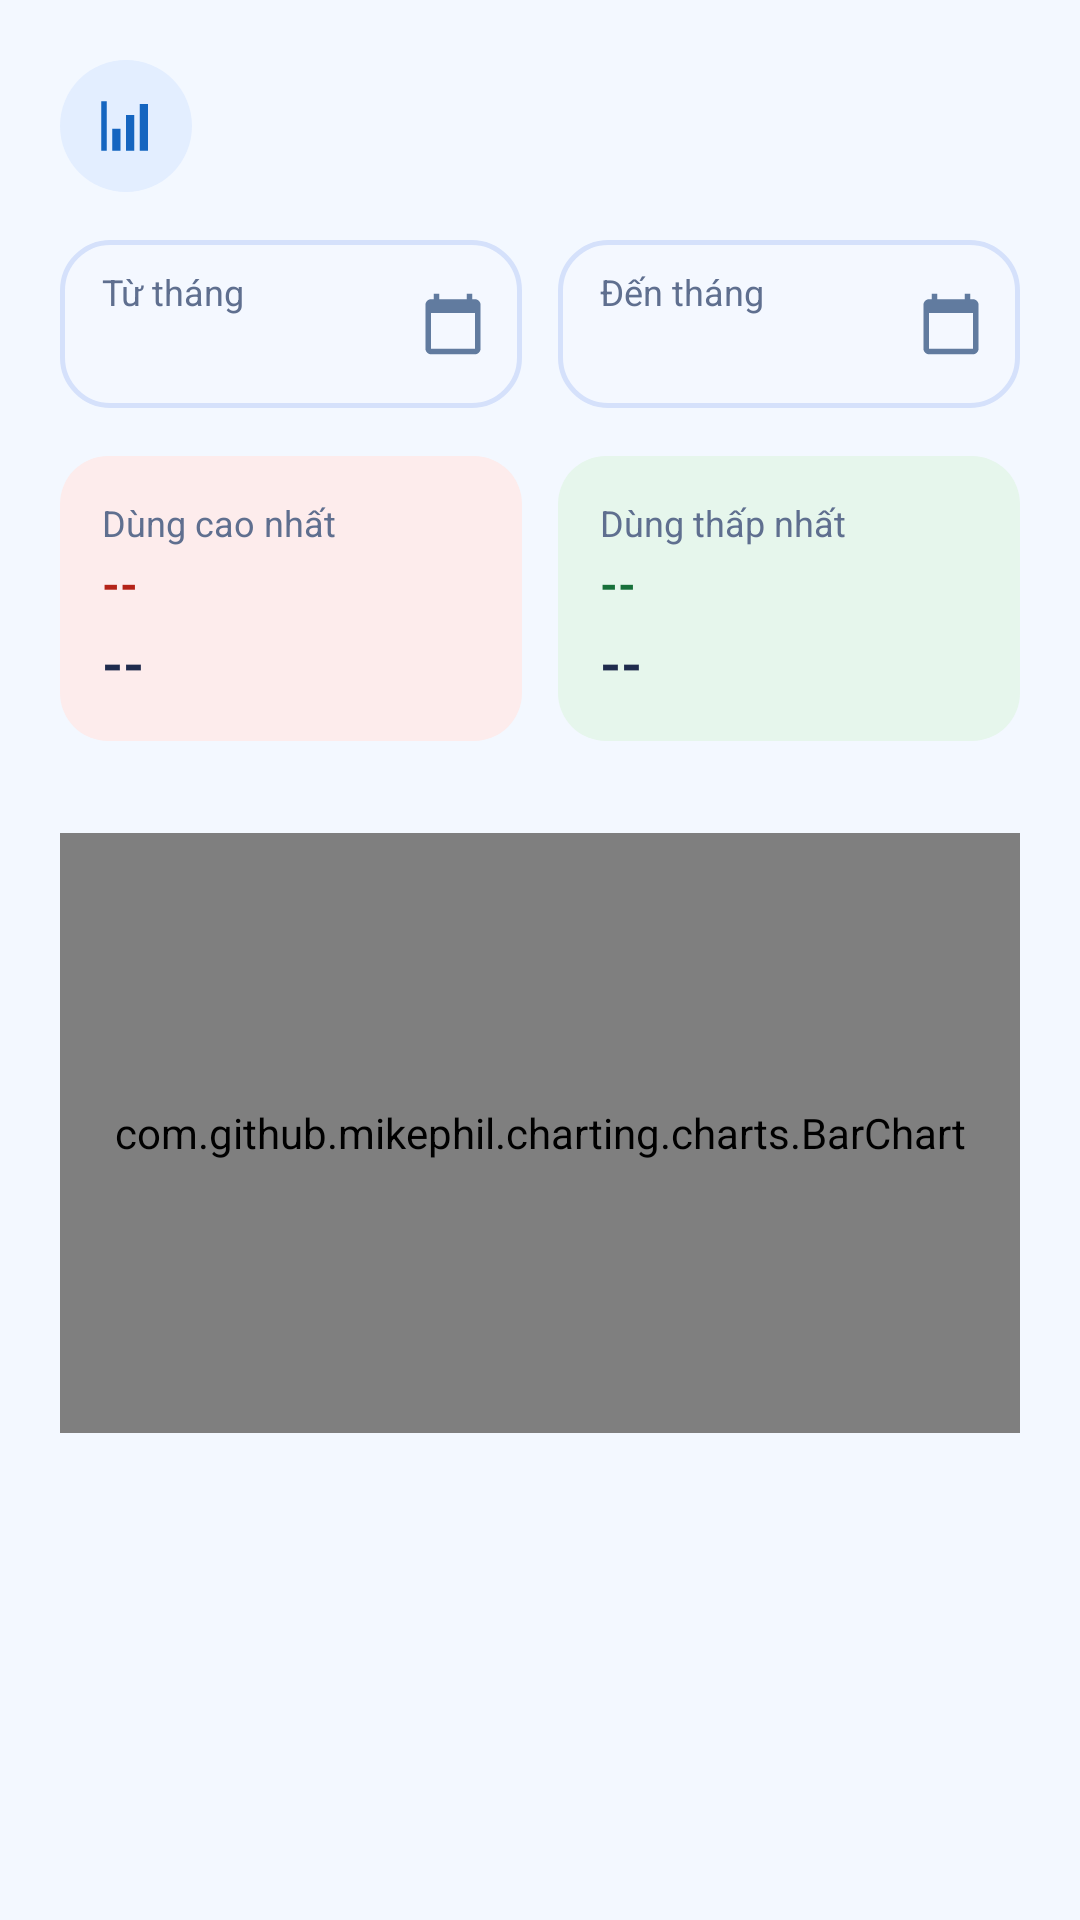

Where to tap for icons on this 1080*1920 app screen, as [x,y]:
calendar: [453,324], [951,324]
statistics: [124,126]
